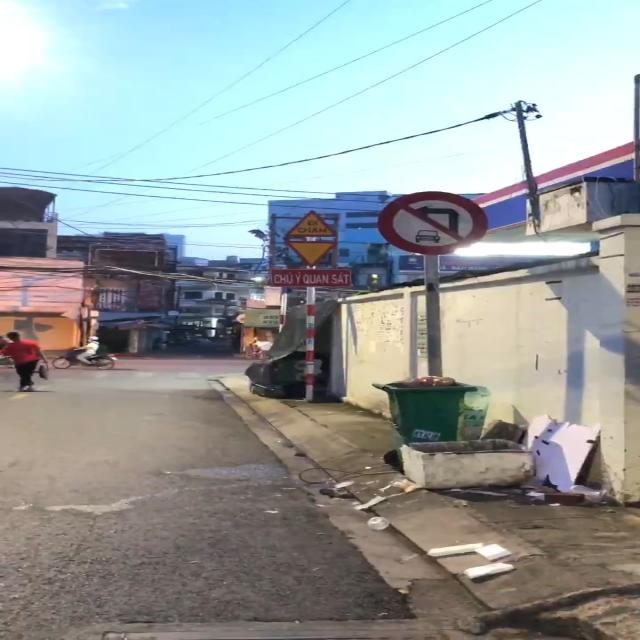Bien bao cam xe o to re trai: (374, 190, 485, 259)
Bien bao di cham: (278, 209, 346, 239)
Bien bao giao nhau voi duong uu tien: (282, 238, 340, 268)
